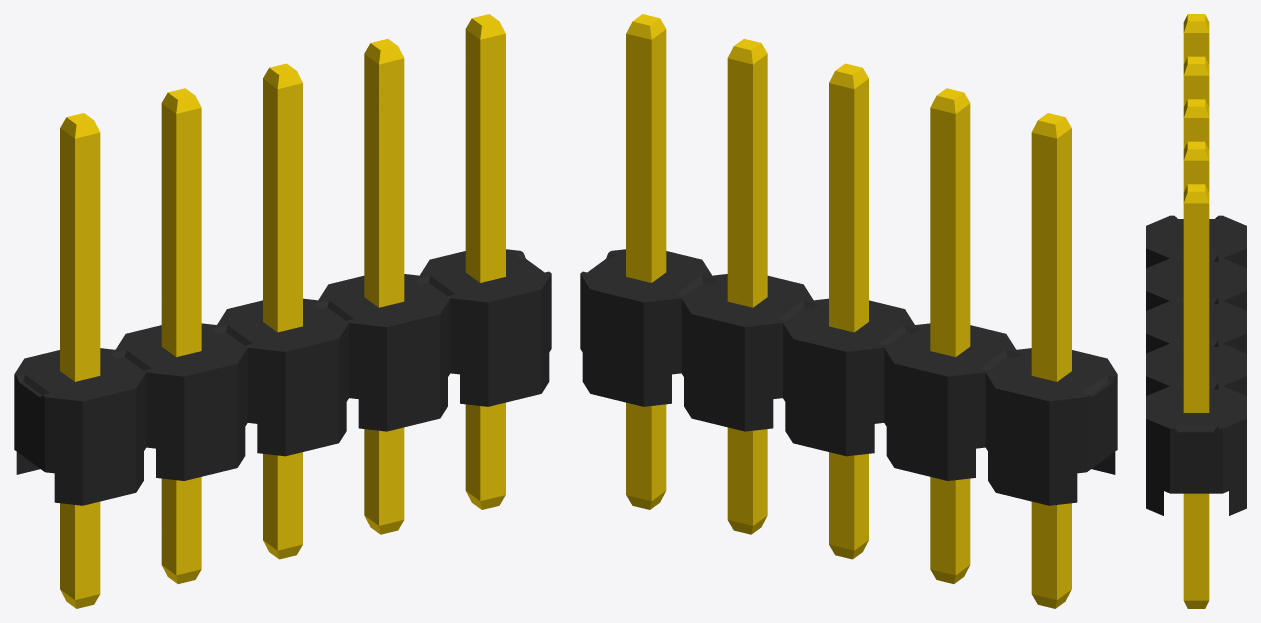
File: PLS5.glb
3 views of the same model, side by side, from view 1: azimuth 30°, elevation 25°; view 2: azimuth 150°, elevation 25°; view 3: azimuth 270°, elevation 25° (orthographic). The views are drawn at different scales.
Parts seen in each view (by area): view 1: PLS (DS1021 CONNFLY); view 2: PLS (DS1021 CONNFLY); view 3: PLS (DS1021 CONNFLY).
Boxes of the visible parts, bbox=[...] form: PLS (DS1021 CONNFLY): bbox=[14, 14, 551, 608]; PLS (DS1021 CONNFLY): bbox=[580, 14, 1117, 608]; PLS (DS1021 CONNFLY): bbox=[1146, 14, 1246, 608].
Bounding box in the file's own units: 0.0127 × 0.0116 × 0.00254.
